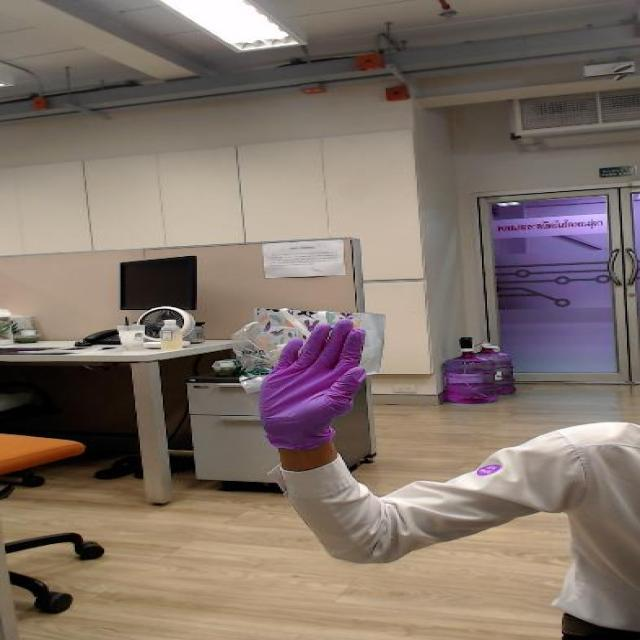gloved_hand: (233, 315, 389, 433)
